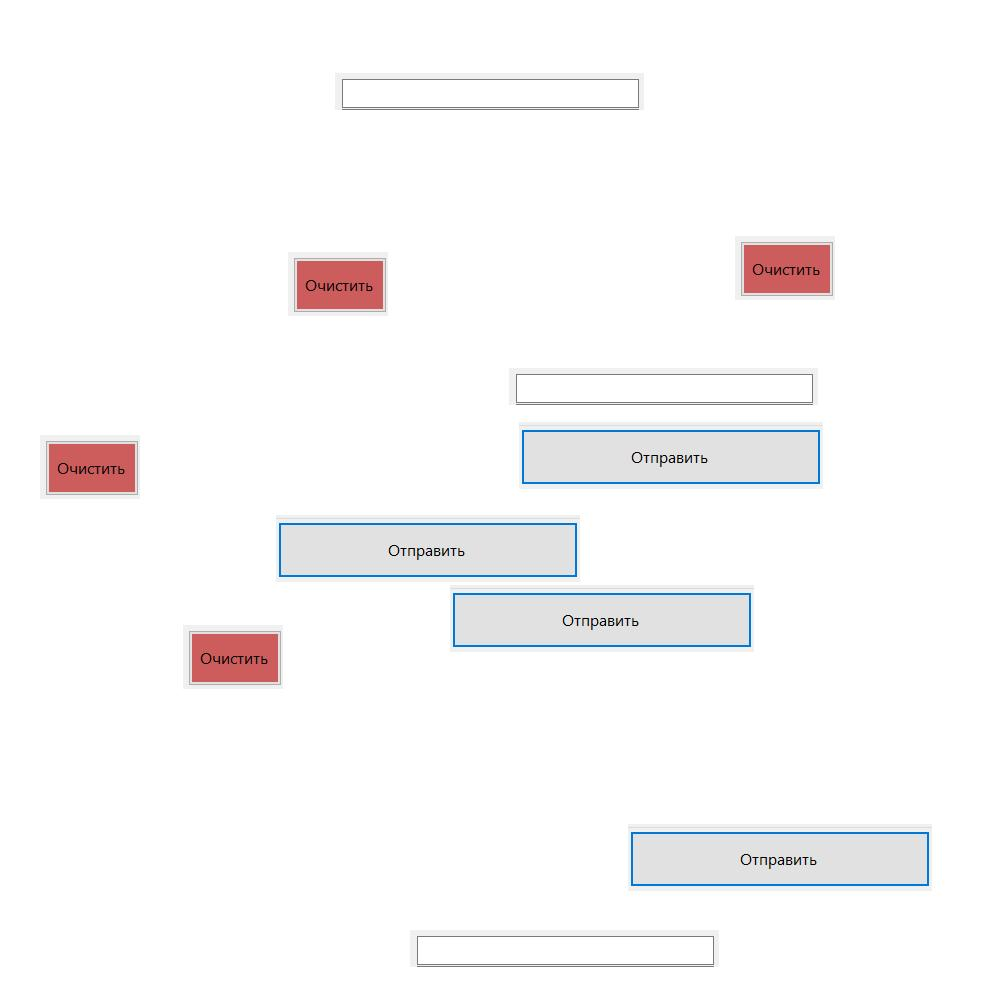Button: (276, 515, 580, 582), (628, 824, 932, 891), (450, 585, 754, 652), (519, 422, 823, 489), (40, 435, 140, 499), (183, 625, 283, 689), (735, 236, 835, 300), (288, 252, 388, 316)
EditText-: (410, 930, 719, 967), (335, 73, 644, 110), (509, 368, 818, 405)
